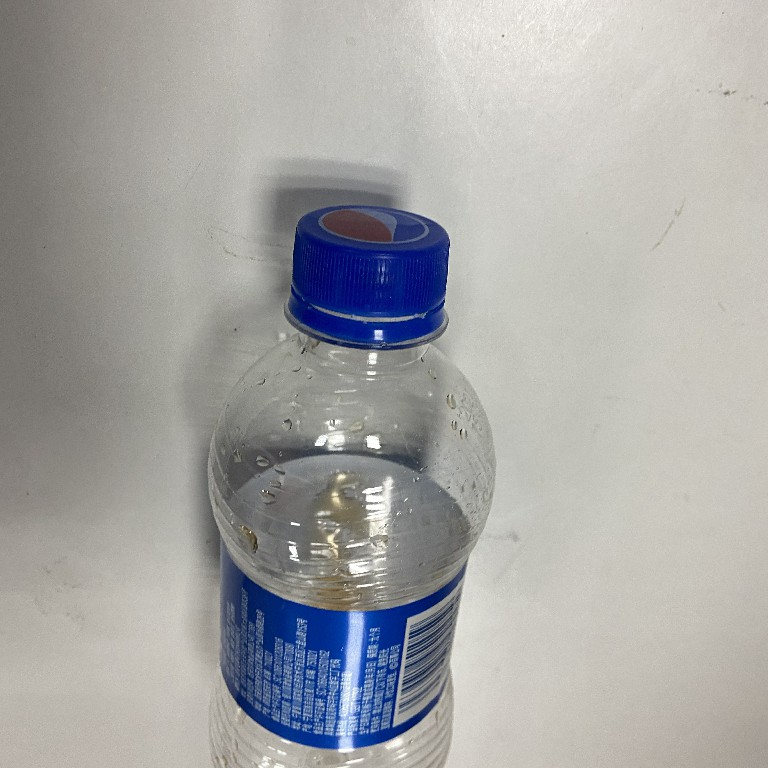bottle: (194, 196, 503, 768)
